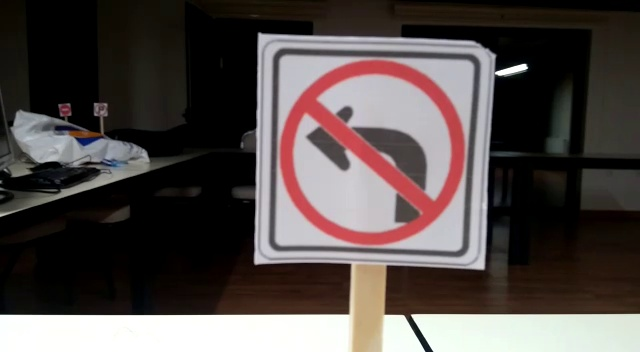sola_donulmez: (255, 47, 497, 260)
